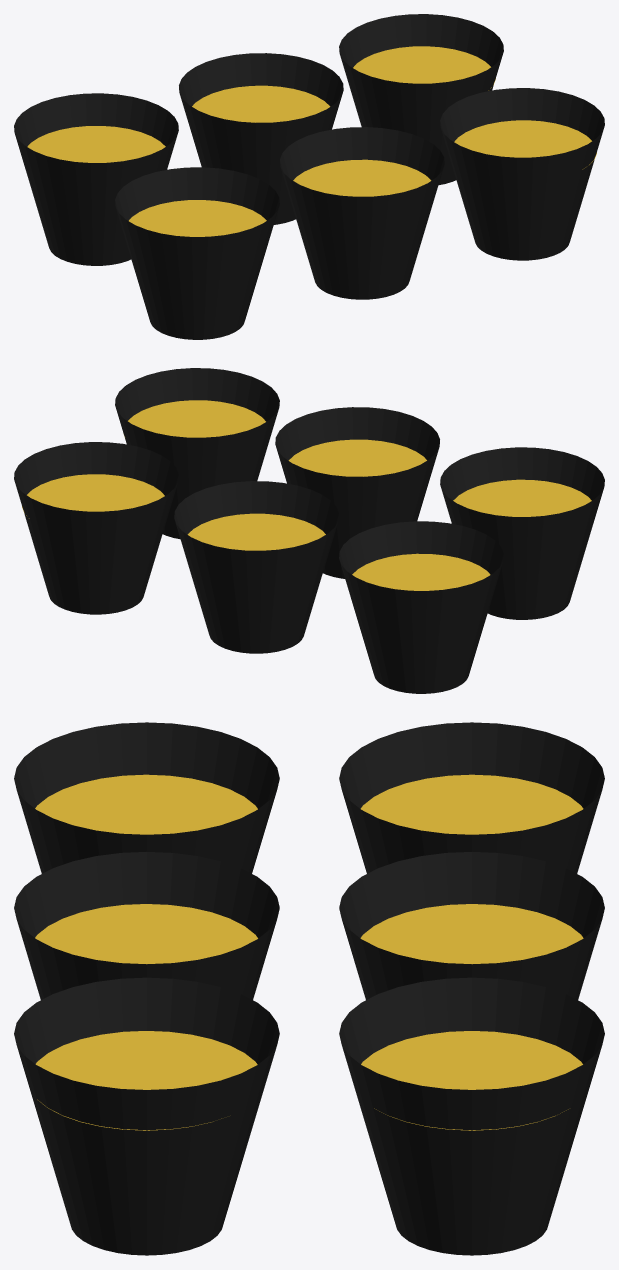
The model's file is mix.fbx.
The picture shows the model from 3 angles, top to bottom: view 1: azimuth 30°, elevation 25°; view 2: azimuth 150°, elevation 25°; view 3: azimuth 270°, elevation 25°; orthographic projection. The views are drawn at different scales.
Parts seen in each view (by area): view 1: Cylinder, mix; view 2: Cylinder, mix; view 3: Cylinder, mix.
Part boxes in pixels (x1,y1,x2,y2): Cylinder: (14,14,604,339); mix: (27,46,596,236); Cylinder: (14,368,604,693); mix: (22,400,591,590); Cylinder: (14,722,604,1255); mix: (35,774,583,1130).
Size of the model in its own units: 654 by 157 by 445.
